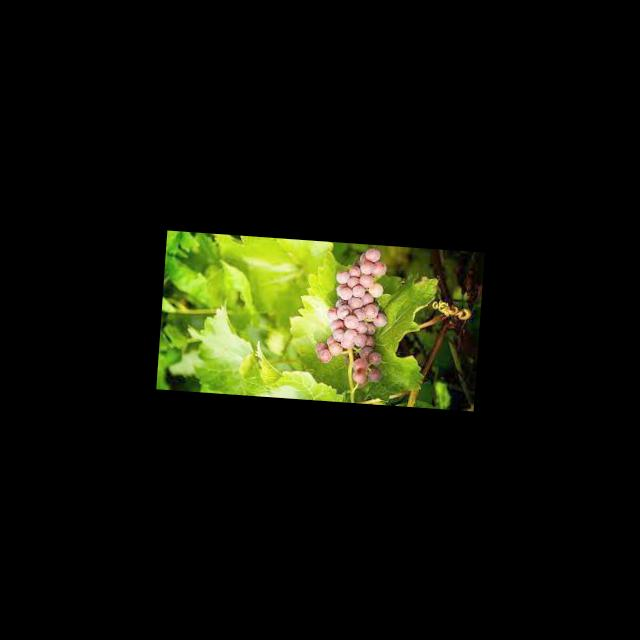grape: (312, 243, 392, 387)
